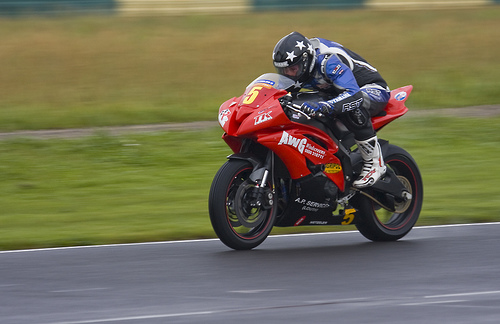helmet: (272, 33, 314, 76)
